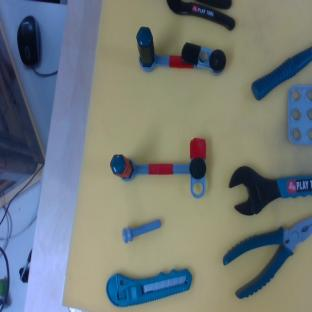non_pass: (128, 25, 229, 93)
pass: (109, 137, 206, 198)
